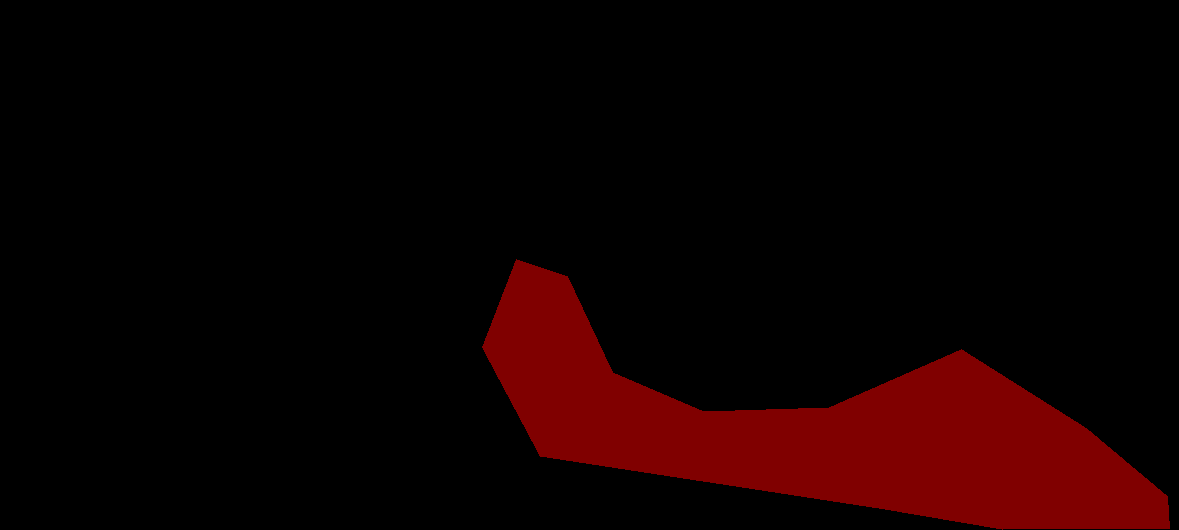fire: (482, 259, 1169, 529)
